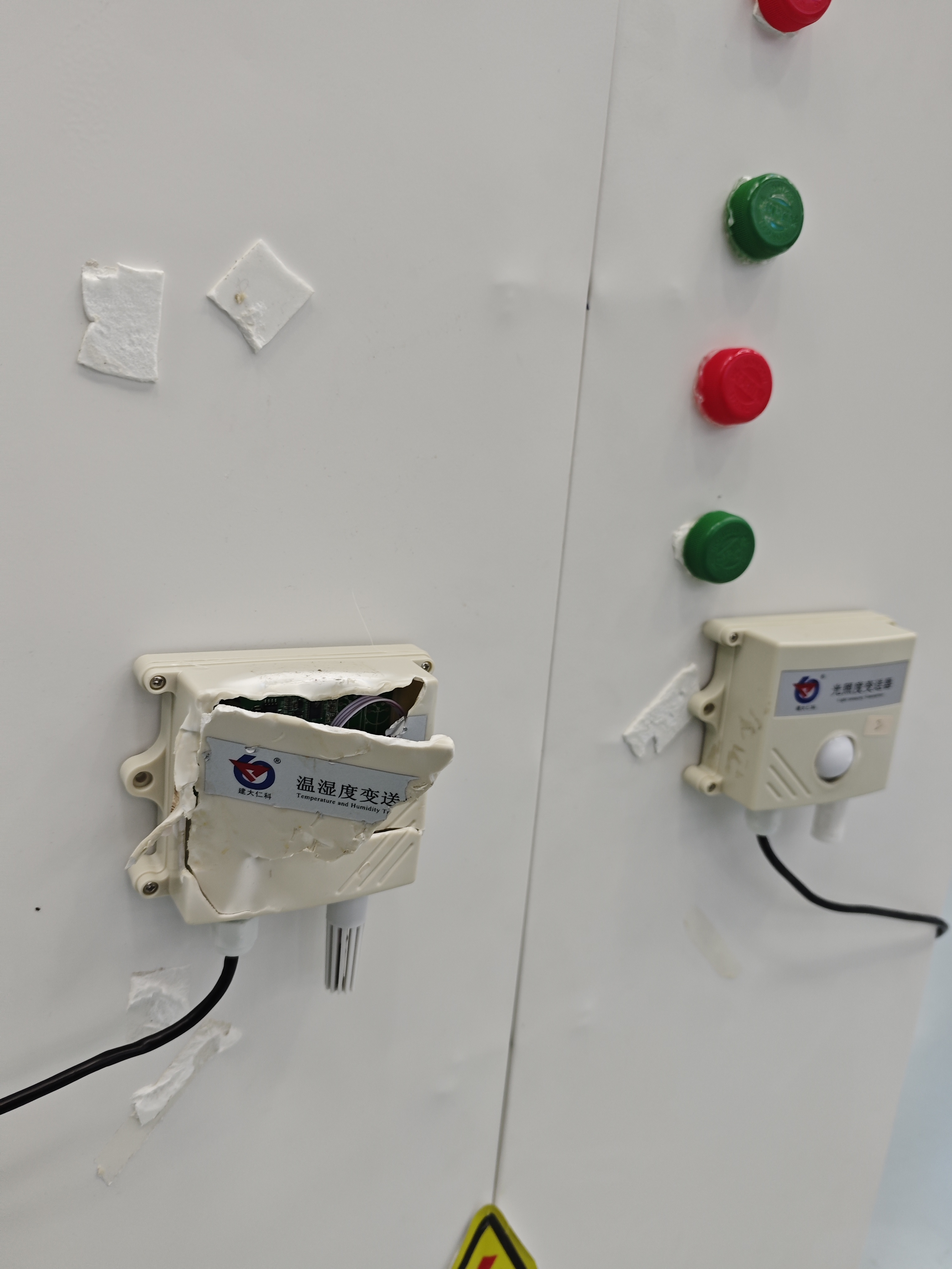sensor_damage: (106, 586, 498, 1039)
